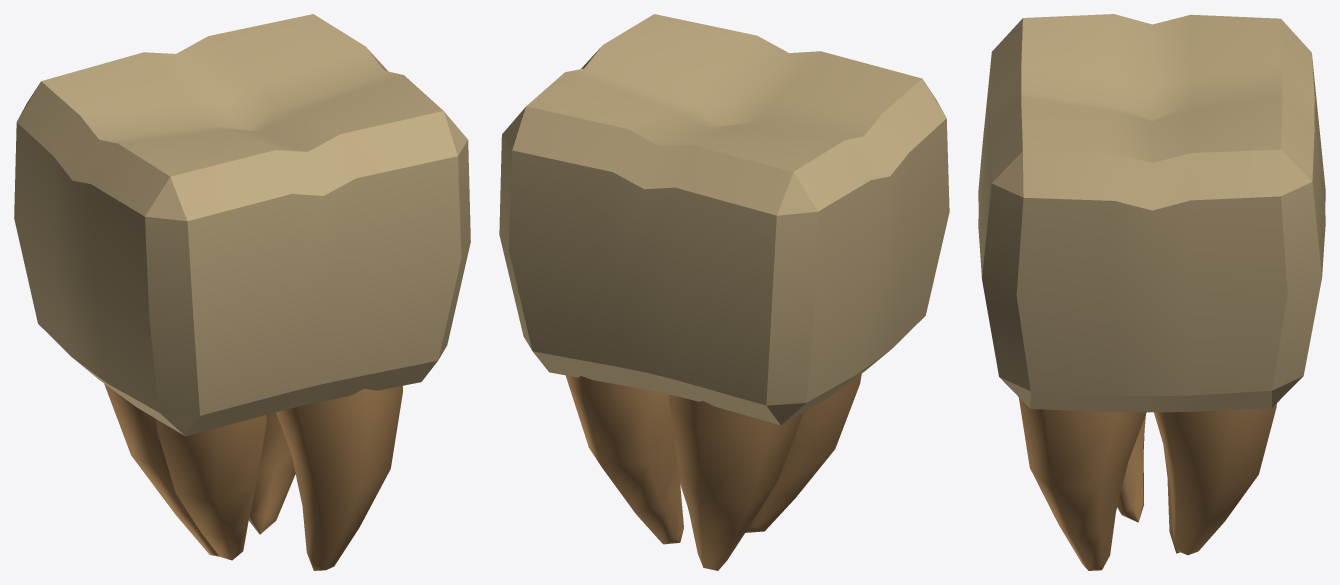
The model's file is teeth.fbx.
The picture shows the model from 3 angles, left to right: view 1: azimuth 30°, elevation 25°; view 2: azimuth 150°, elevation 25°; view 3: azimuth 270°, elevation 25°; orthographic projection.
Visible parts, largest first — view 1: Teeth; view 2: Teeth; view 3: Teeth.
Part boxes in pixels (x1,y1,x2,y2): Teeth: (14,14,470,570); Teeth: (499,14,949,570); Teeth: (978,14,1325,570).
Bounding box in the file's own units: 6.21 × 8.31 × 5.55.
